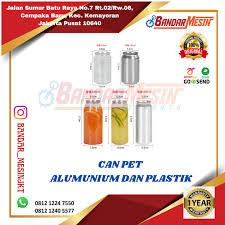BIODEGRADABLE: (80, 93, 105, 151), (112, 97, 134, 152), (92, 46, 114, 88)
